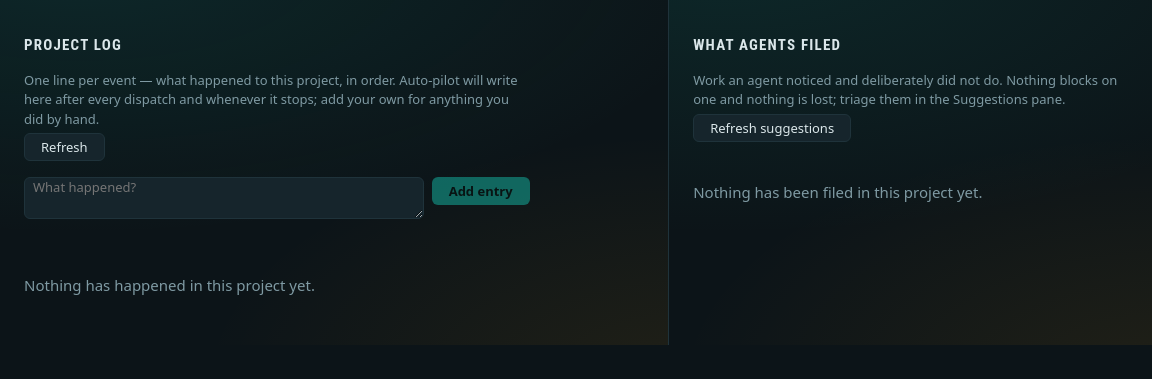
Test: adding to the log by hand › shows the entry it just wrote, as the server recorded it
Check: the text "Nothing has happened in this project yet." is shown, box [24,275,315,297]
Type "as I typed it" into the text box named "Add to the log" at (224, 198), box [24,177,424,219]
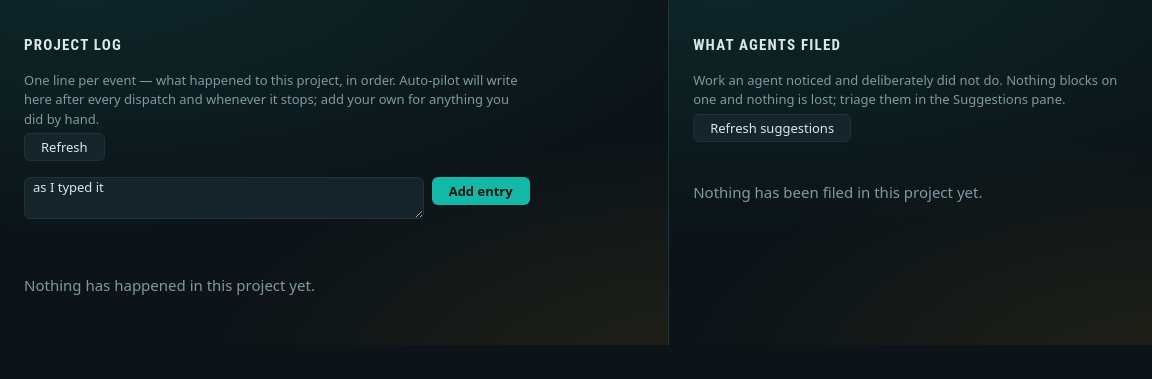
Click the button "Add entry" at (481, 191), box [432,177,530,205]
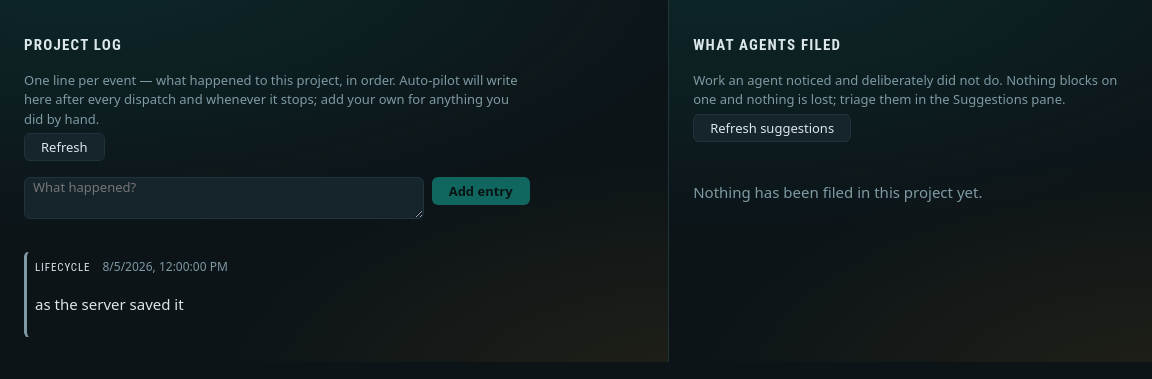
Check: the text "as I typed it" is not shown
Check: the text "as the server saved it" is shown, box [35,294,184,314]
